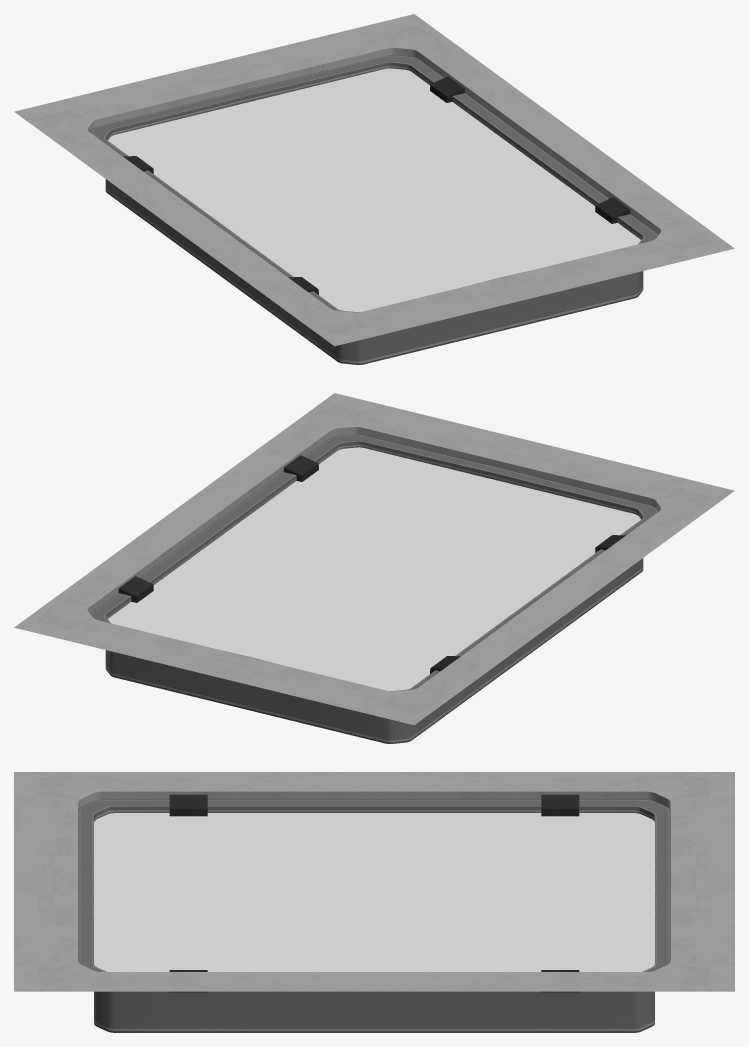
The model's file is platform_window_thin.gltf.
3 views of the same model, one above another, from view 1: azimuth 30°, elevation 25°; view 2: azimuth 150°, elevation 25°; view 3: azimuth 270°, elevation 25° (orthographic). The views are drawn at different scales.
Parts seen in each view (by area): view 1: Platform_Window_Thin; view 2: Platform_Window_Thin; view 3: Platform_Window_Thin.
Part boxes in pixels (x1=…): Platform_Window_Thin: x1=14, y1=14, x2=734, y2=364; Platform_Window_Thin: x1=14, y1=393, x2=734, y2=743; Platform_Window_Thin: x1=14, y1=772, x2=734, y2=1032.
Size of the model in its own units: 2.88 by 0.4133 by 4.
4 materials, 3 textured.
